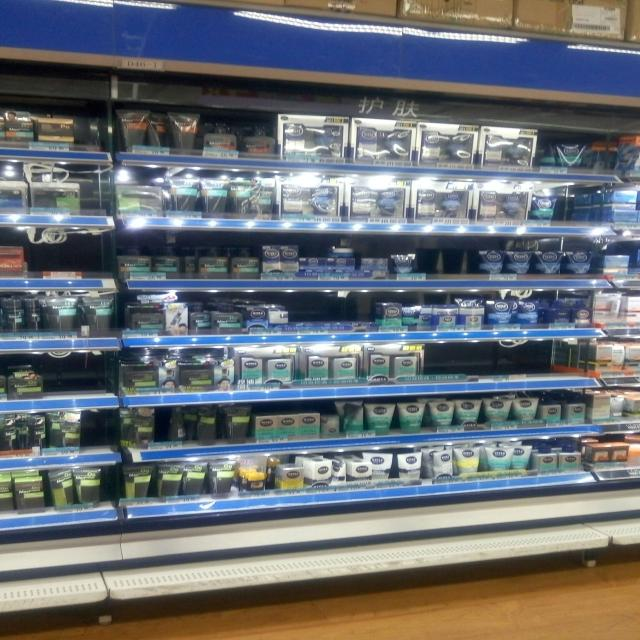unorganised: (165, 401, 191, 446), (149, 113, 166, 153), (432, 451, 454, 480)
